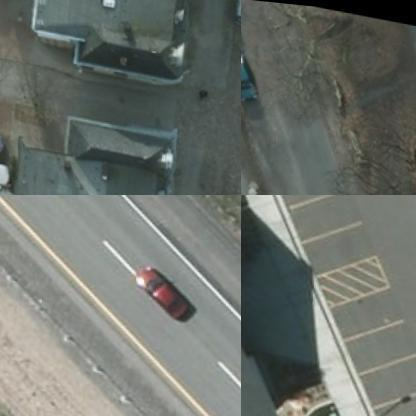car: (130, 257, 196, 318), (241, 42, 264, 98), (0, 150, 13, 187)
